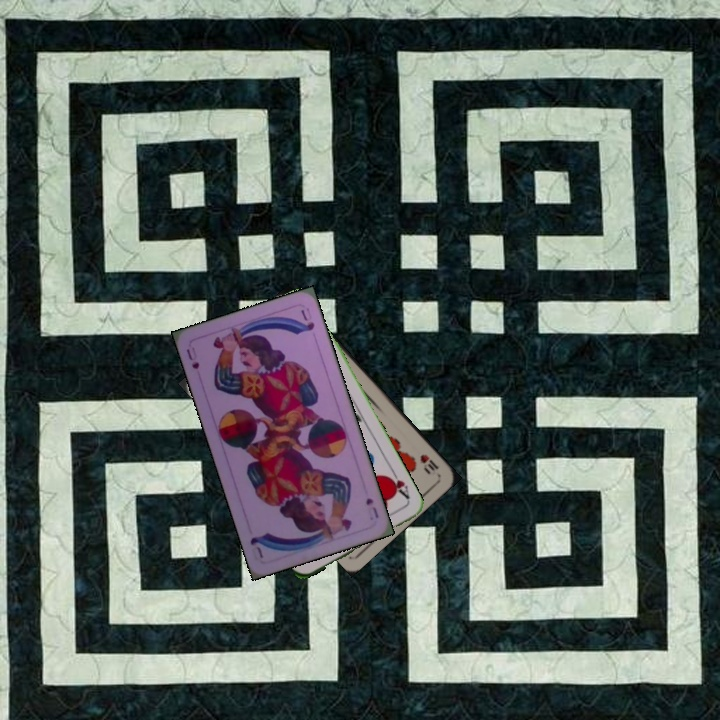H10: (416, 450, 441, 476)
HA: (383, 467, 412, 505)
SU: (182, 343, 202, 372), (362, 494, 381, 521)
